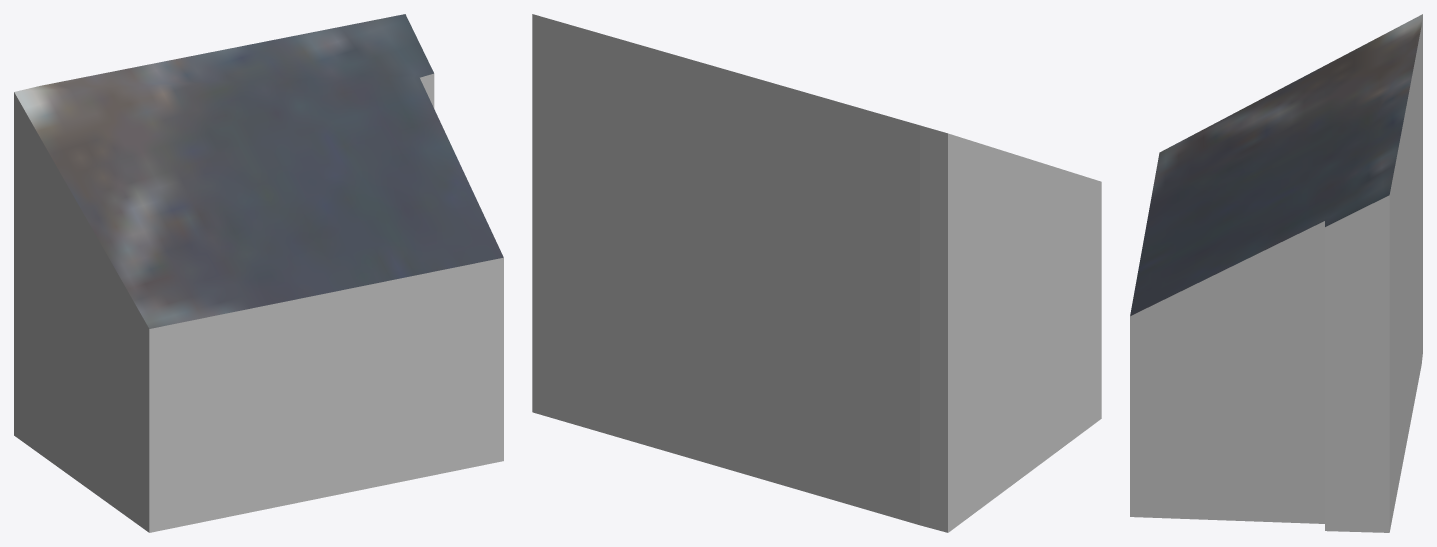
File: DEBW_0010007Tx7l.gltf
3 views of the same model, side by side, from view 1: azimuth 30°, elevation 25°; view 2: azimuth 150°, elevation 25°; view 3: azimuth 270°, elevation 25° (orthographic). The views are drawn at different scales.
Parts seen in each view (by area): view 1: Z_UP; view 2: Z_UP; view 3: Z_UP.
Boxes of the visible parts, <box> form: Z_UP: <box>14,14,503,532</box>; Z_UP: <box>532,14,1101,532</box>; Z_UP: <box>1130,14,1422,532</box>.
Size of the model in its own units: 6.65 by 5.84 by 4.57.
Materials: 2 (1 with a texture image).
